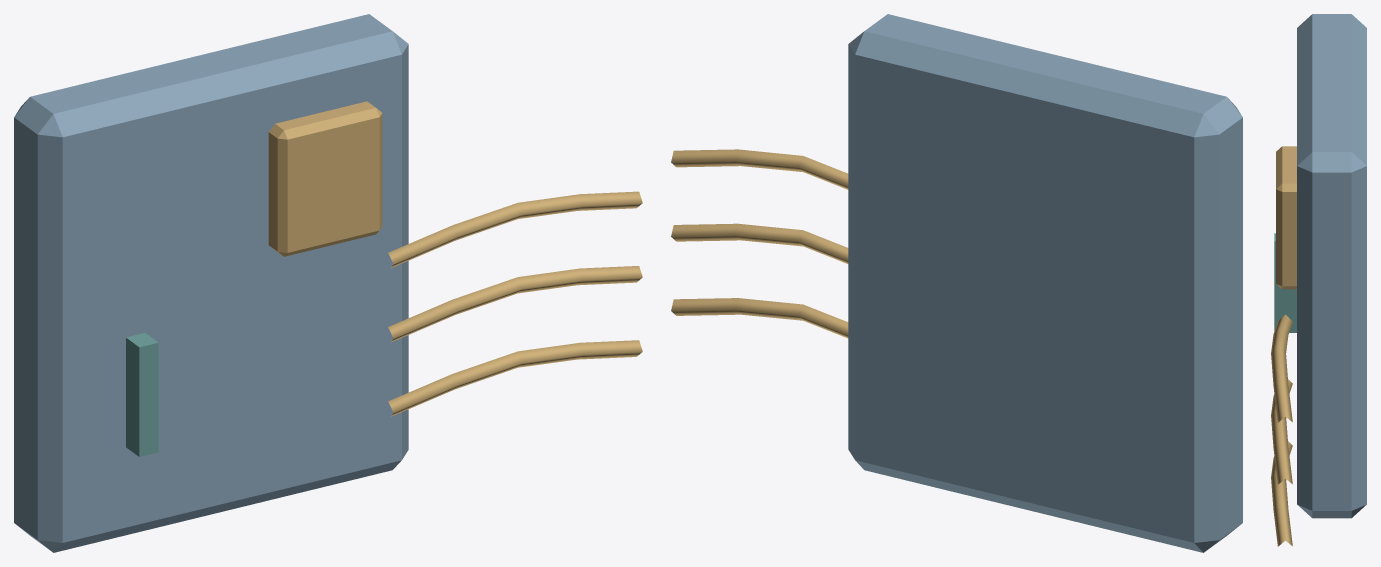
Rendered from biped_cleaner.glb.
The picture shows the model from 3 angles, left to right: view 1: azimuth 30°, elevation 25°; view 2: azimuth 150°, elevation 25°; view 3: azimuth 270°, elevation 25°; orthographic projection. The views are drawn at different scales.
Parts seen in each view (by area): view 1: biped_cleaner; view 2: biped_cleaner; view 3: biped_cleaner.
Boxes of the visible parts, x1=… form: biped_cleaner: x1=14, y1=14, x2=642, y2=552; biped_cleaner: x1=671, y1=14, x2=1242, y2=552; biped_cleaner: x1=1271, y1=14, x2=1366, y2=546.
Bounding box in the file's own units: 0.3628 × 0.26 × 0.0617.
